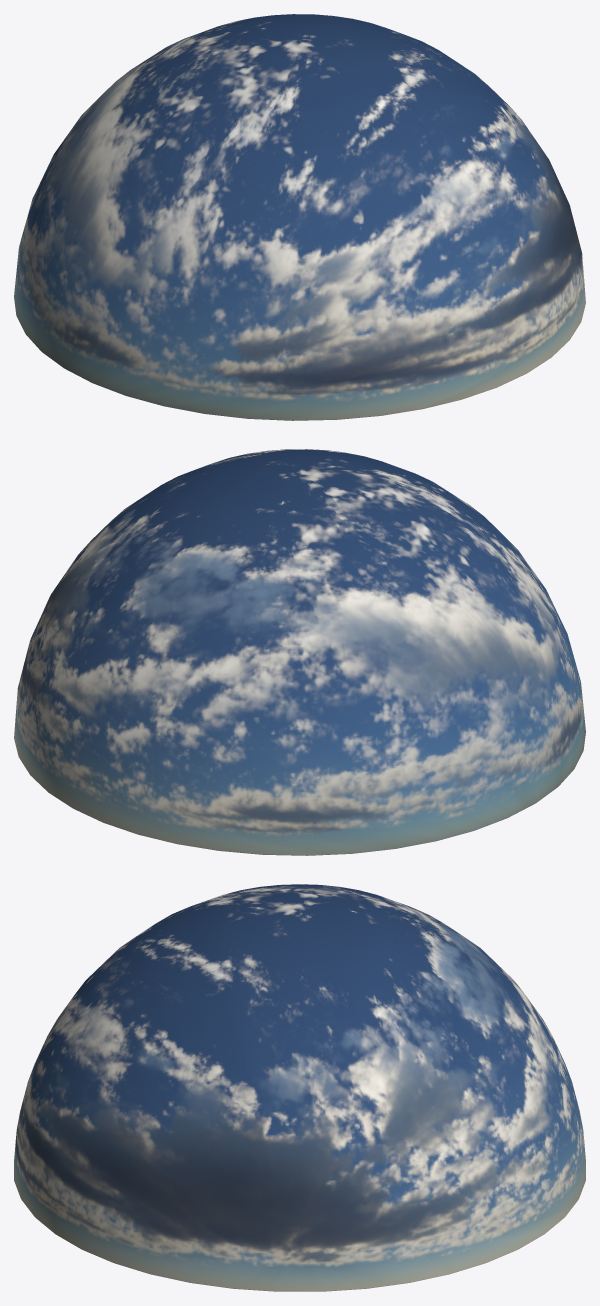
The model's file is CLX_skybox_01.FBX.
3 renders of one model, top to bottom at view 1: azimuth 30°, elevation 25°; view 2: azimuth 150°, elevation 25°; view 3: azimuth 270°, elevation 25°, orthographic.
Visible parts, largest first — view 1: CLX_skybox_01; view 2: CLX_skybox_01; view 3: CLX_skybox_01.
Part boxes in pixels (x1=…): CLX_skybox_01: x1=14, y1=14, x2=585, y2=420; CLX_skybox_01: x1=14, y1=449, x2=585, y2=855; CLX_skybox_01: x1=14, y1=884, x2=585, y2=1291.
Size of the model in its own units: 1.99 by 1 by 1.99.
